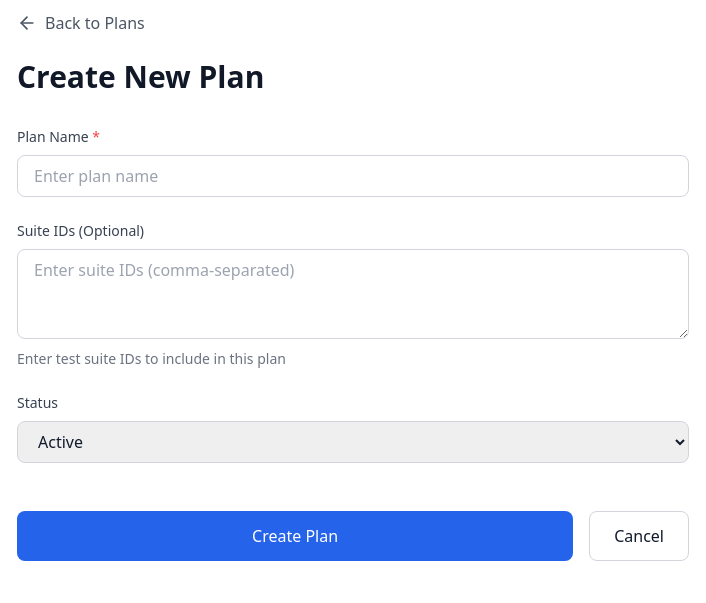
Test case: PlanForm › Validation › should show error when plan name is empty
This screenshot has width=706, height=603.
Expected: the heading "Create New Plan" is shown, [17, 56, 264, 97]
Click the button "Create Plan": (295, 536) [17, 511, 573, 561]
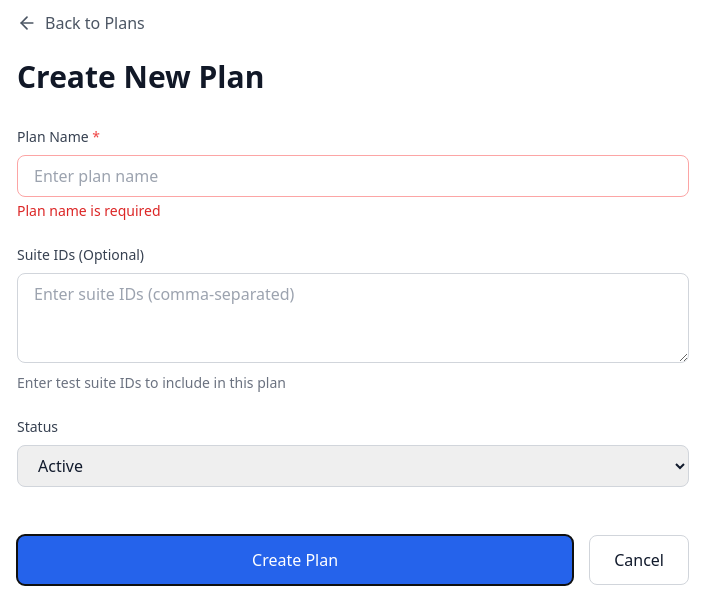
Now the text "Plan name is required" is shown, box [17, 201, 161, 220]
